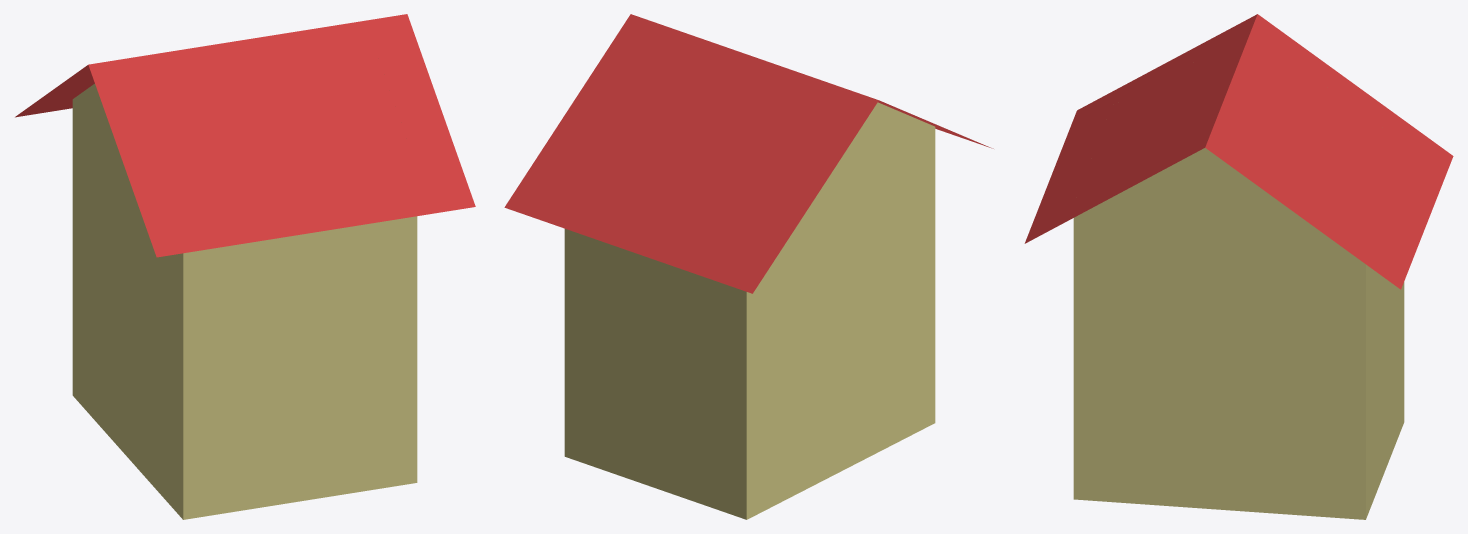
3 views of the same model, side by side, from view 1: azimuth 30°, elevation 25°; view 2: azimuth 150°, elevation 25°; view 3: azimuth 270°, elevation 25° (orthographic). The views are drawn at different scales.
Size of the model in its own units: 8.88 by 10.06 by 9.81.
